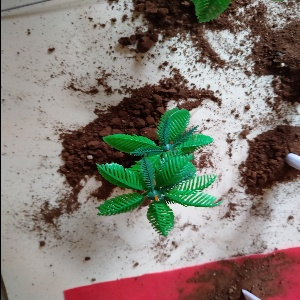plant: (89, 106, 224, 231)
